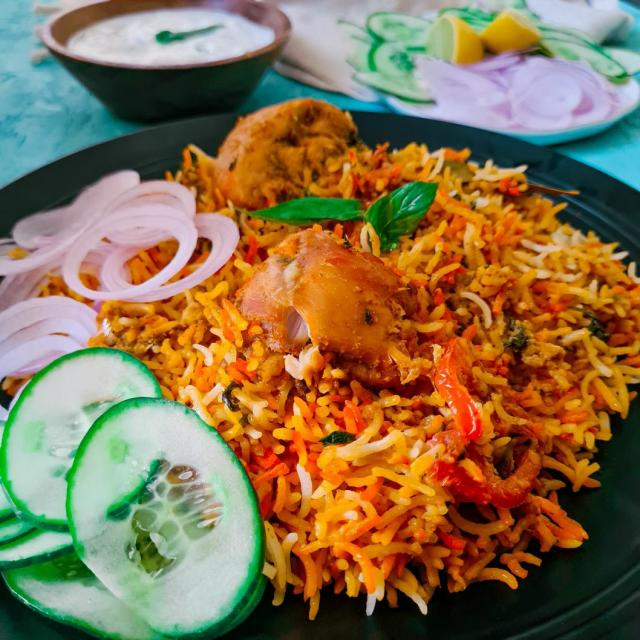Biryani: (0, 97, 640, 619)
